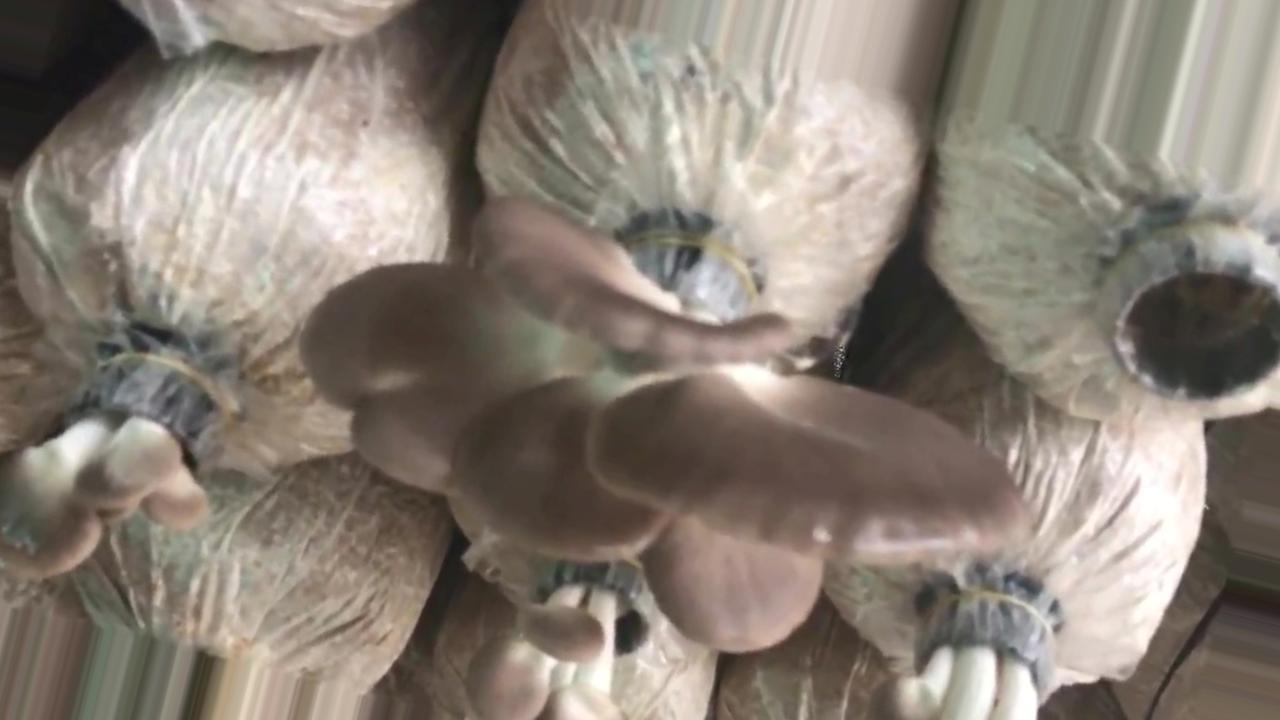nam: (293, 196, 1032, 659), (1, 339, 230, 578), (868, 556, 1067, 720), (461, 560, 654, 720)
